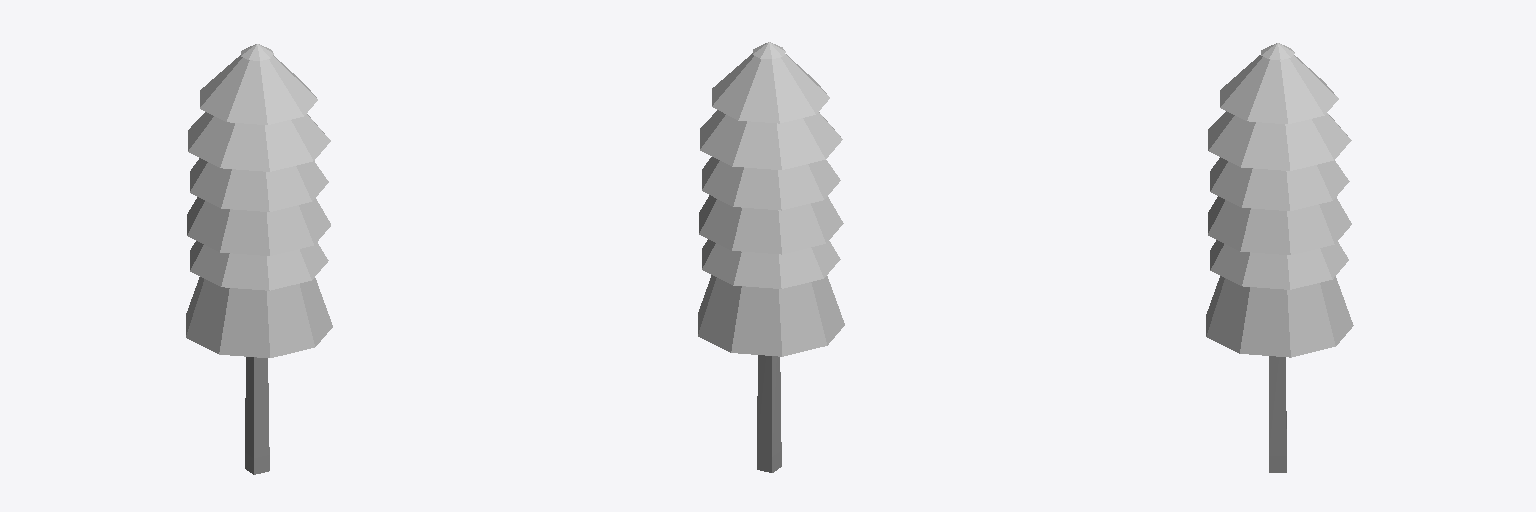
Rendered from PineTree.obj.
The picture shows the model from 3 angles: view 1: azimuth 30°, elevation 25°; view 2: azimuth 150°, elevation 25°; view 3: azimuth 270°, elevation 25°; orthographic projection.
Visible parts, largest first — view 1: Cylinder, Cube; view 2: Cylinder, Cube; view 3: Cylinder, Cube.
Part boxes in pixels (left/top/right/bottom): Cylinder: left=186, top=44, right=332, bottom=357; Cube: left=245, top=357, right=269, bottom=474; Cylinder: left=698, top=42, right=844, bottom=356; Cube: left=757, top=355, right=781, bottom=472; Cylinder: left=1206, top=43, right=1353, bottom=357; Cube: left=1269, top=356, right=1286, bottom=472.
Size of the model in its own units: 2.55 by 7.99 by 2.51.